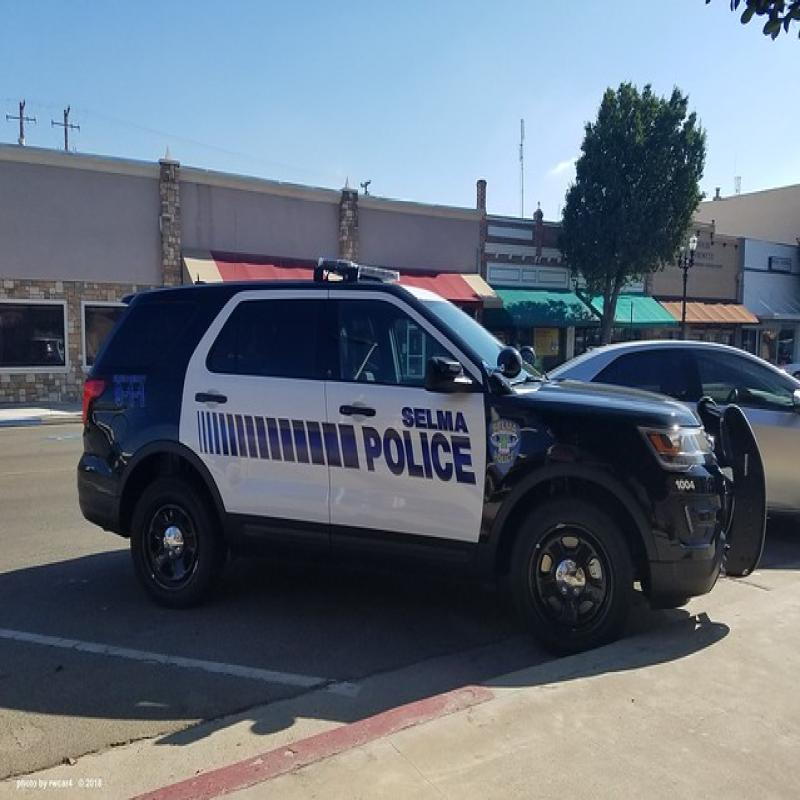AmbulanceSiren: (314, 242, 412, 288)
